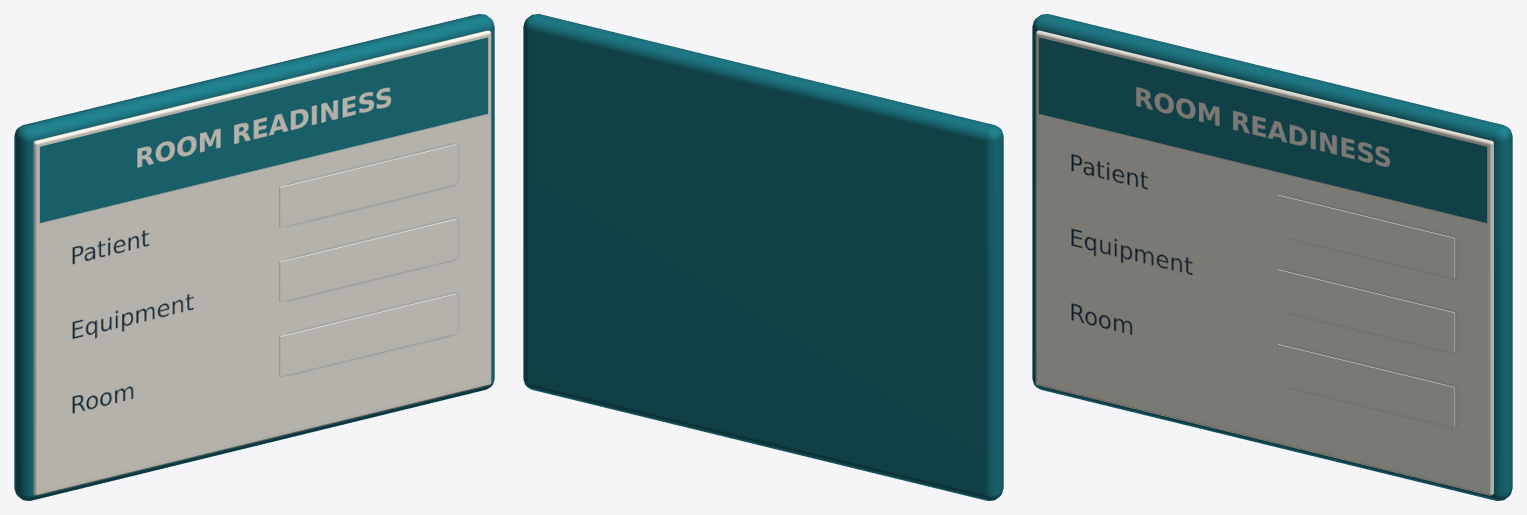
The model's file is Endoscopy_Readiness_Board.glb.
3 views of the same model, side by side, from view 1: azimuth 30°, elevation 25°; view 2: azimuth 150°, elevation 25°; view 3: azimuth 330°, elevation 25° (orthographic).
Visible parts, largest first — view 1: Endoscopy_Readiness_Board__Graphics, Endoscopy_Readiness_Board__Visual, Status_Overlay_1.001, Status_Overlay_2.001, Status_Overlay_3.001; view 2: Endoscopy_Readiness_Board__Visual; view 3: Endoscopy_Readiness_Board__Graphics, Endoscopy_Readiness_Board__Visual, Status_Overlay_1.001, Status_Overlay_3.001, Status_Overlay_2.001.
Part boxes in pixels (bbox=[...]): Endoscopy_Readiness_Board__Graphics: bbox=[39, 37, 488, 491]; Endoscopy_Readiness_Board__Visual: bbox=[14, 14, 494, 500]; Status_Overlay_1.001: bbox=[279, 144, 456, 227]; Status_Overlay_2.001: bbox=[279, 219, 456, 302]; Status_Overlay_3.001: bbox=[279, 293, 456, 376]; Endoscopy_Readiness_Board__Visual: bbox=[523, 14, 1003, 500]; Endoscopy_Readiness_Board__Graphics: bbox=[1038, 37, 1487, 491]; Endoscopy_Readiness_Board__Visual: bbox=[1032, 14, 1512, 500]; Status_Overlay_1.001: bbox=[1277, 195, 1454, 278]; Status_Overlay_3.001: bbox=[1277, 344, 1454, 427]; Status_Overlay_2.001: bbox=[1277, 269, 1454, 352].
Bounding box in the file's own units: 1.08 × 0.81 × 0.0662.
Materials: 2 (2 with a texture image).
